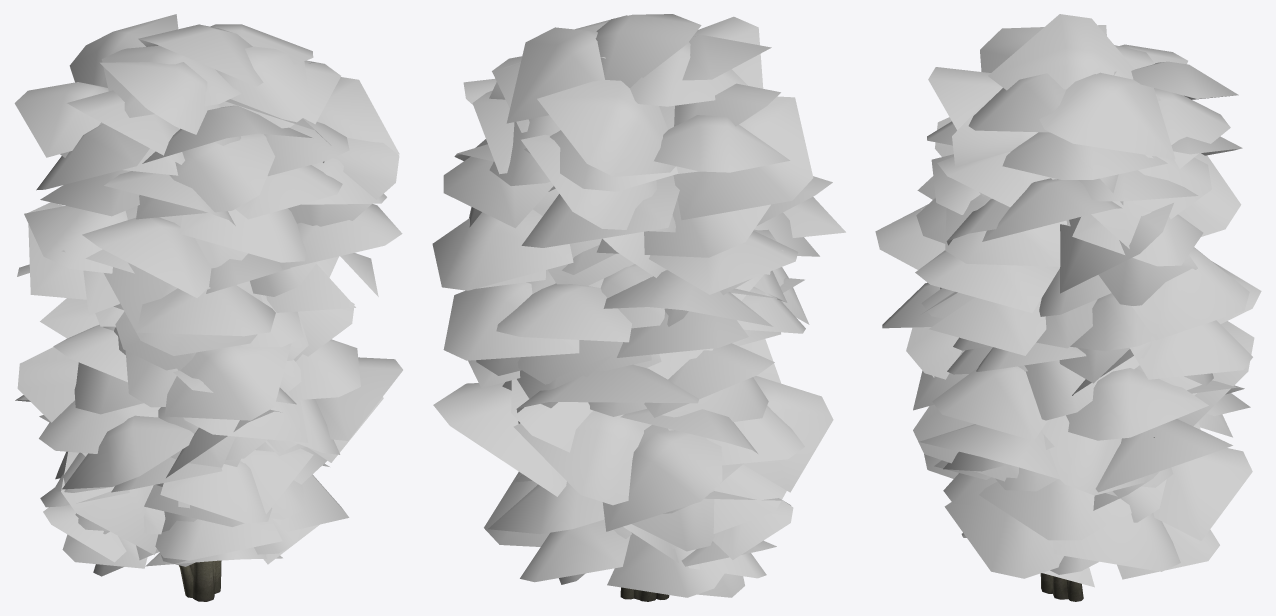
The model's file is Debregeasia_Tree.fbx.
The picture shows the model from 3 angles, left to right: view 1: azimuth 30°, elevation 25°; view 2: azimuth 150°, elevation 25°; view 3: azimuth 270°, elevation 25°; orthographic projection. The views are drawn at different scales.
Parts seen in each view (by area): view 1: Tree_LOD0; view 2: Tree_LOD0; view 3: Tree_LOD0.
Part boxes in pixels (x1,y1,x2,y2): Tree_LOD0: (14,14,402,601); Tree_LOD0: (432,14,845,601); Tree_LOD0: (875,14,1261,601).
Size of what is drawn, in the model's own units: 528 by 866 by 546.
